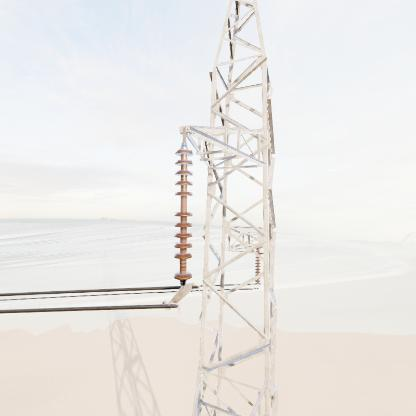insulator: (171, 145, 195, 286)
